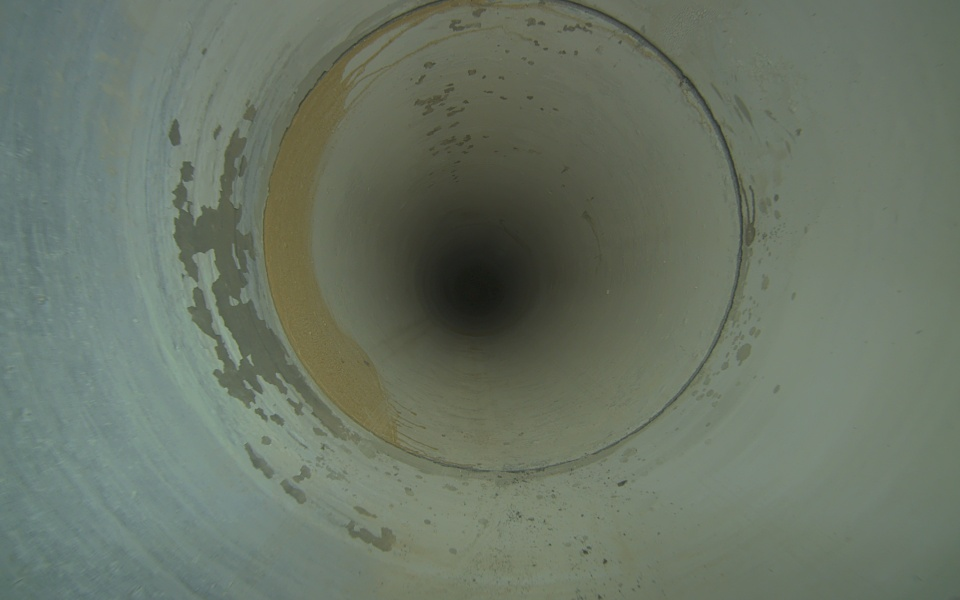circle1: (258, 0, 746, 478)
circle2: (444, 259, 508, 315)
